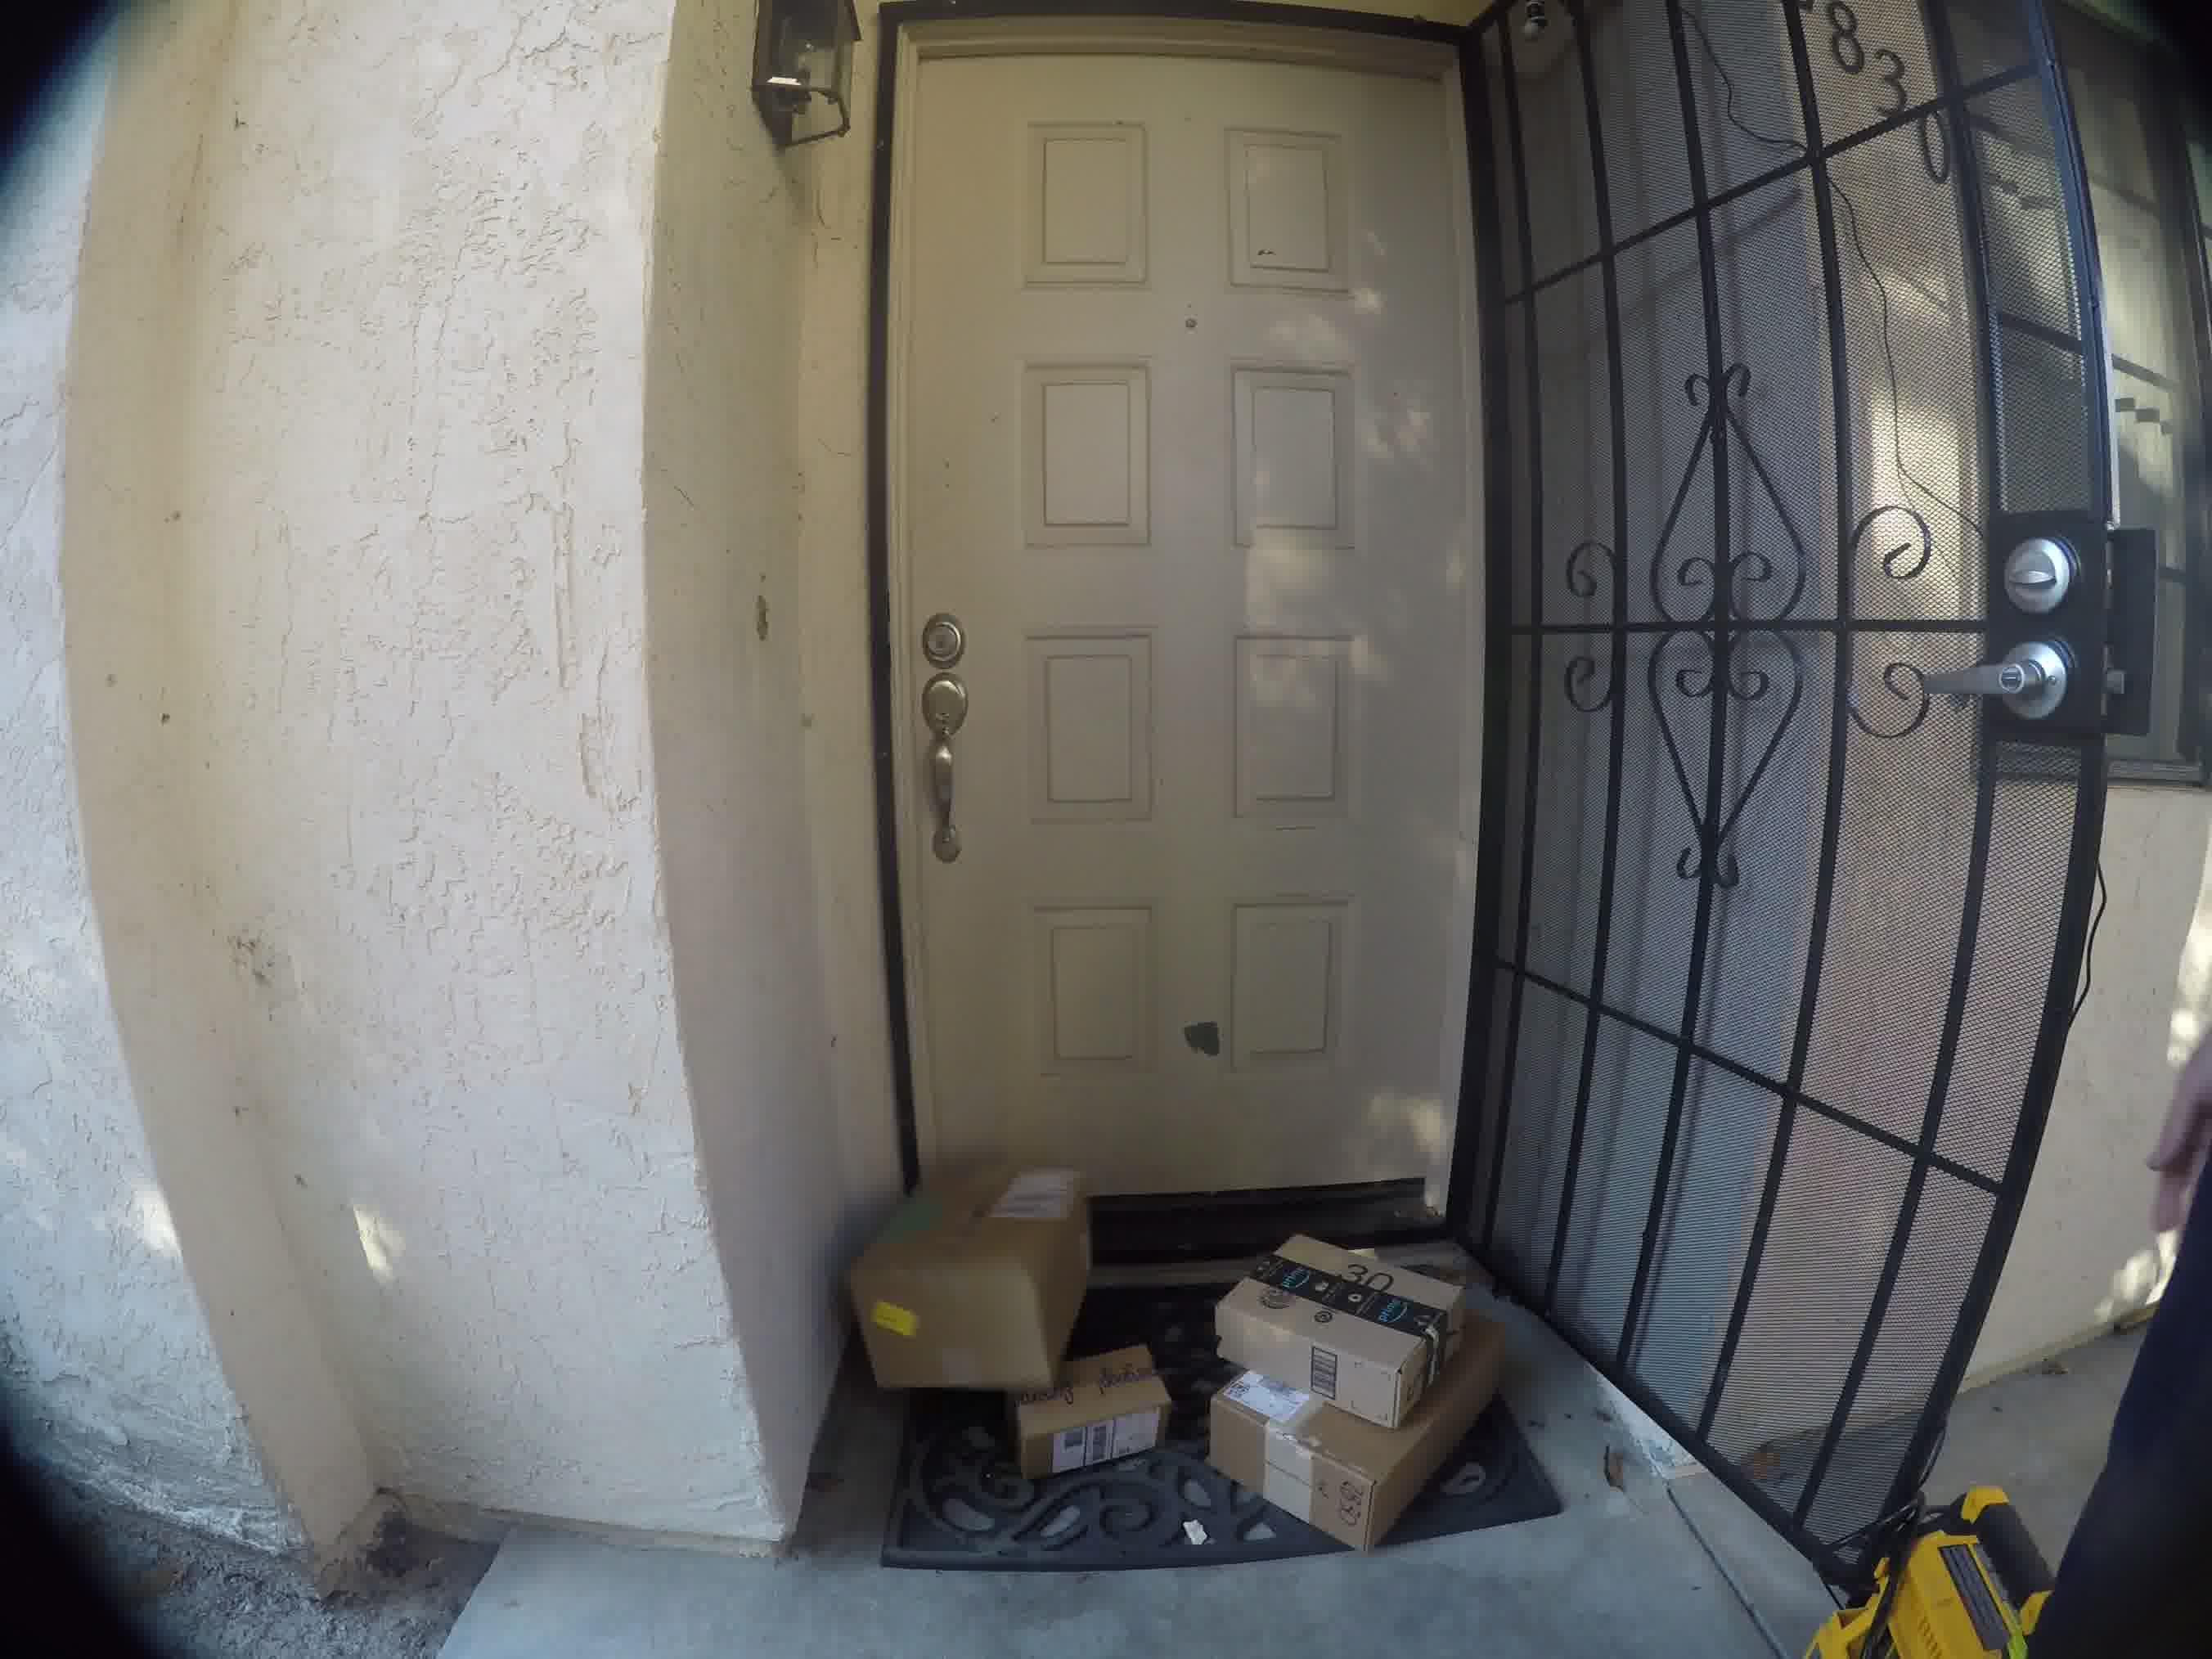box: (859, 1133, 1080, 1399), (1193, 1408, 1508, 1554), (1186, 1215, 1447, 1391)
